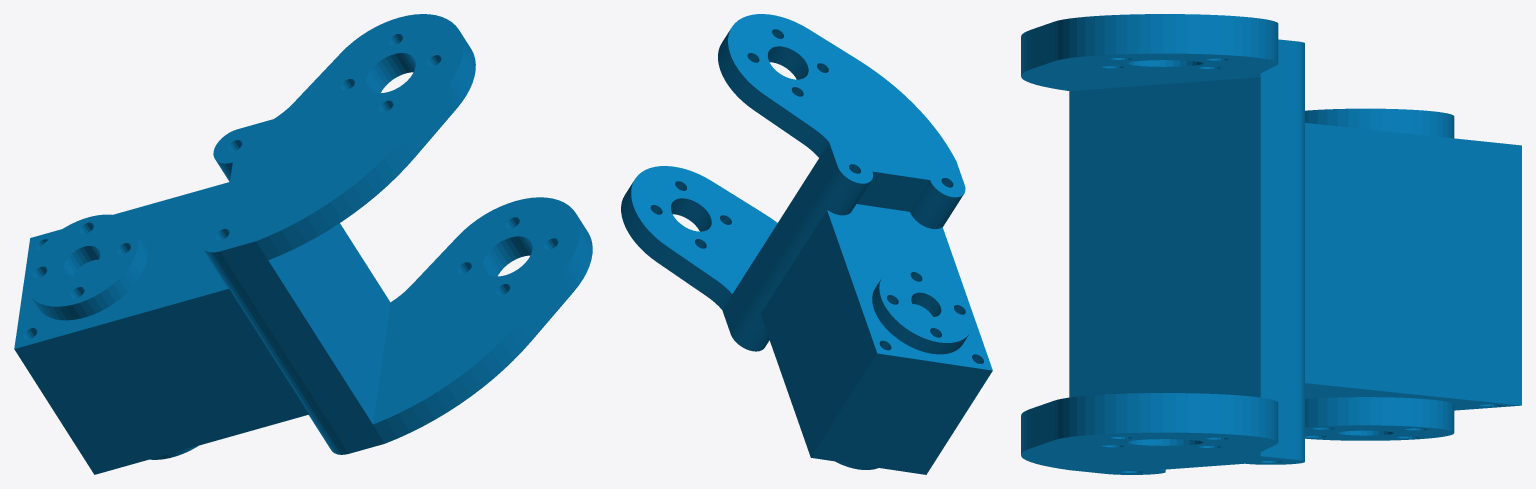
Rendered from hexy_test_5_Femur_3_vis_1.dae.
3 renders of one model, left to right at view 1: azimuth 30°, elevation 25°; view 2: azimuth 150°, elevation 25°; view 3: azimuth 270°, elevation 25°, orthographic. The views are drawn at different scales.
Parts seen in each view (by area): view 1: node; view 2: node; view 3: node.
Part boxes in pixels (x1,y1,x2,y2): node: (14,14,592,474); node: (621,14,992,474); node: (1021,14,1521,474).
Size of the model in its own units: 0.3593 by 0.294 by 0.2206.
